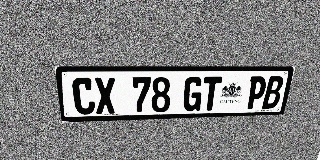7: (131, 77, 151, 113)
8: (151, 77, 171, 112)
B: (262, 76, 285, 109)
C: (71, 77, 96, 115)
G: (182, 77, 204, 111)
P: (245, 76, 268, 109)
T: (201, 77, 222, 111)
X: (94, 77, 116, 114)
